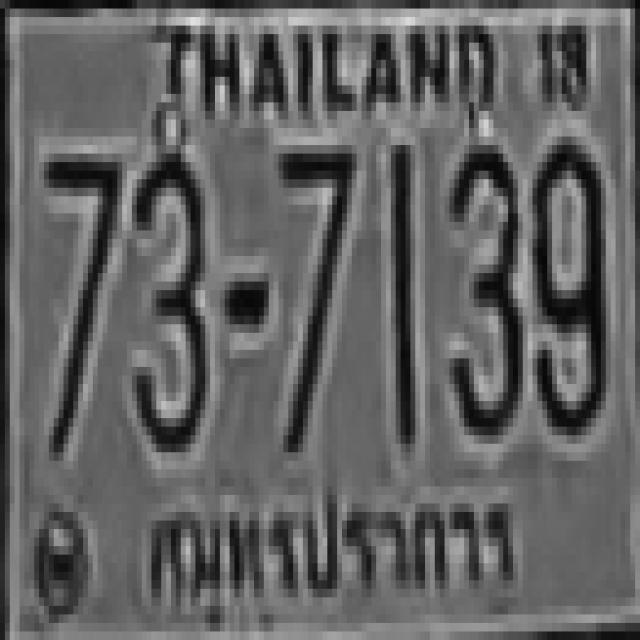1: (388, 145, 413, 444)
3: (129, 145, 203, 444), (444, 137, 518, 435)
7: (274, 136, 352, 444), (39, 145, 117, 452)
9: (528, 136, 601, 426)
SamutPrakan: (139, 473, 520, 611)
